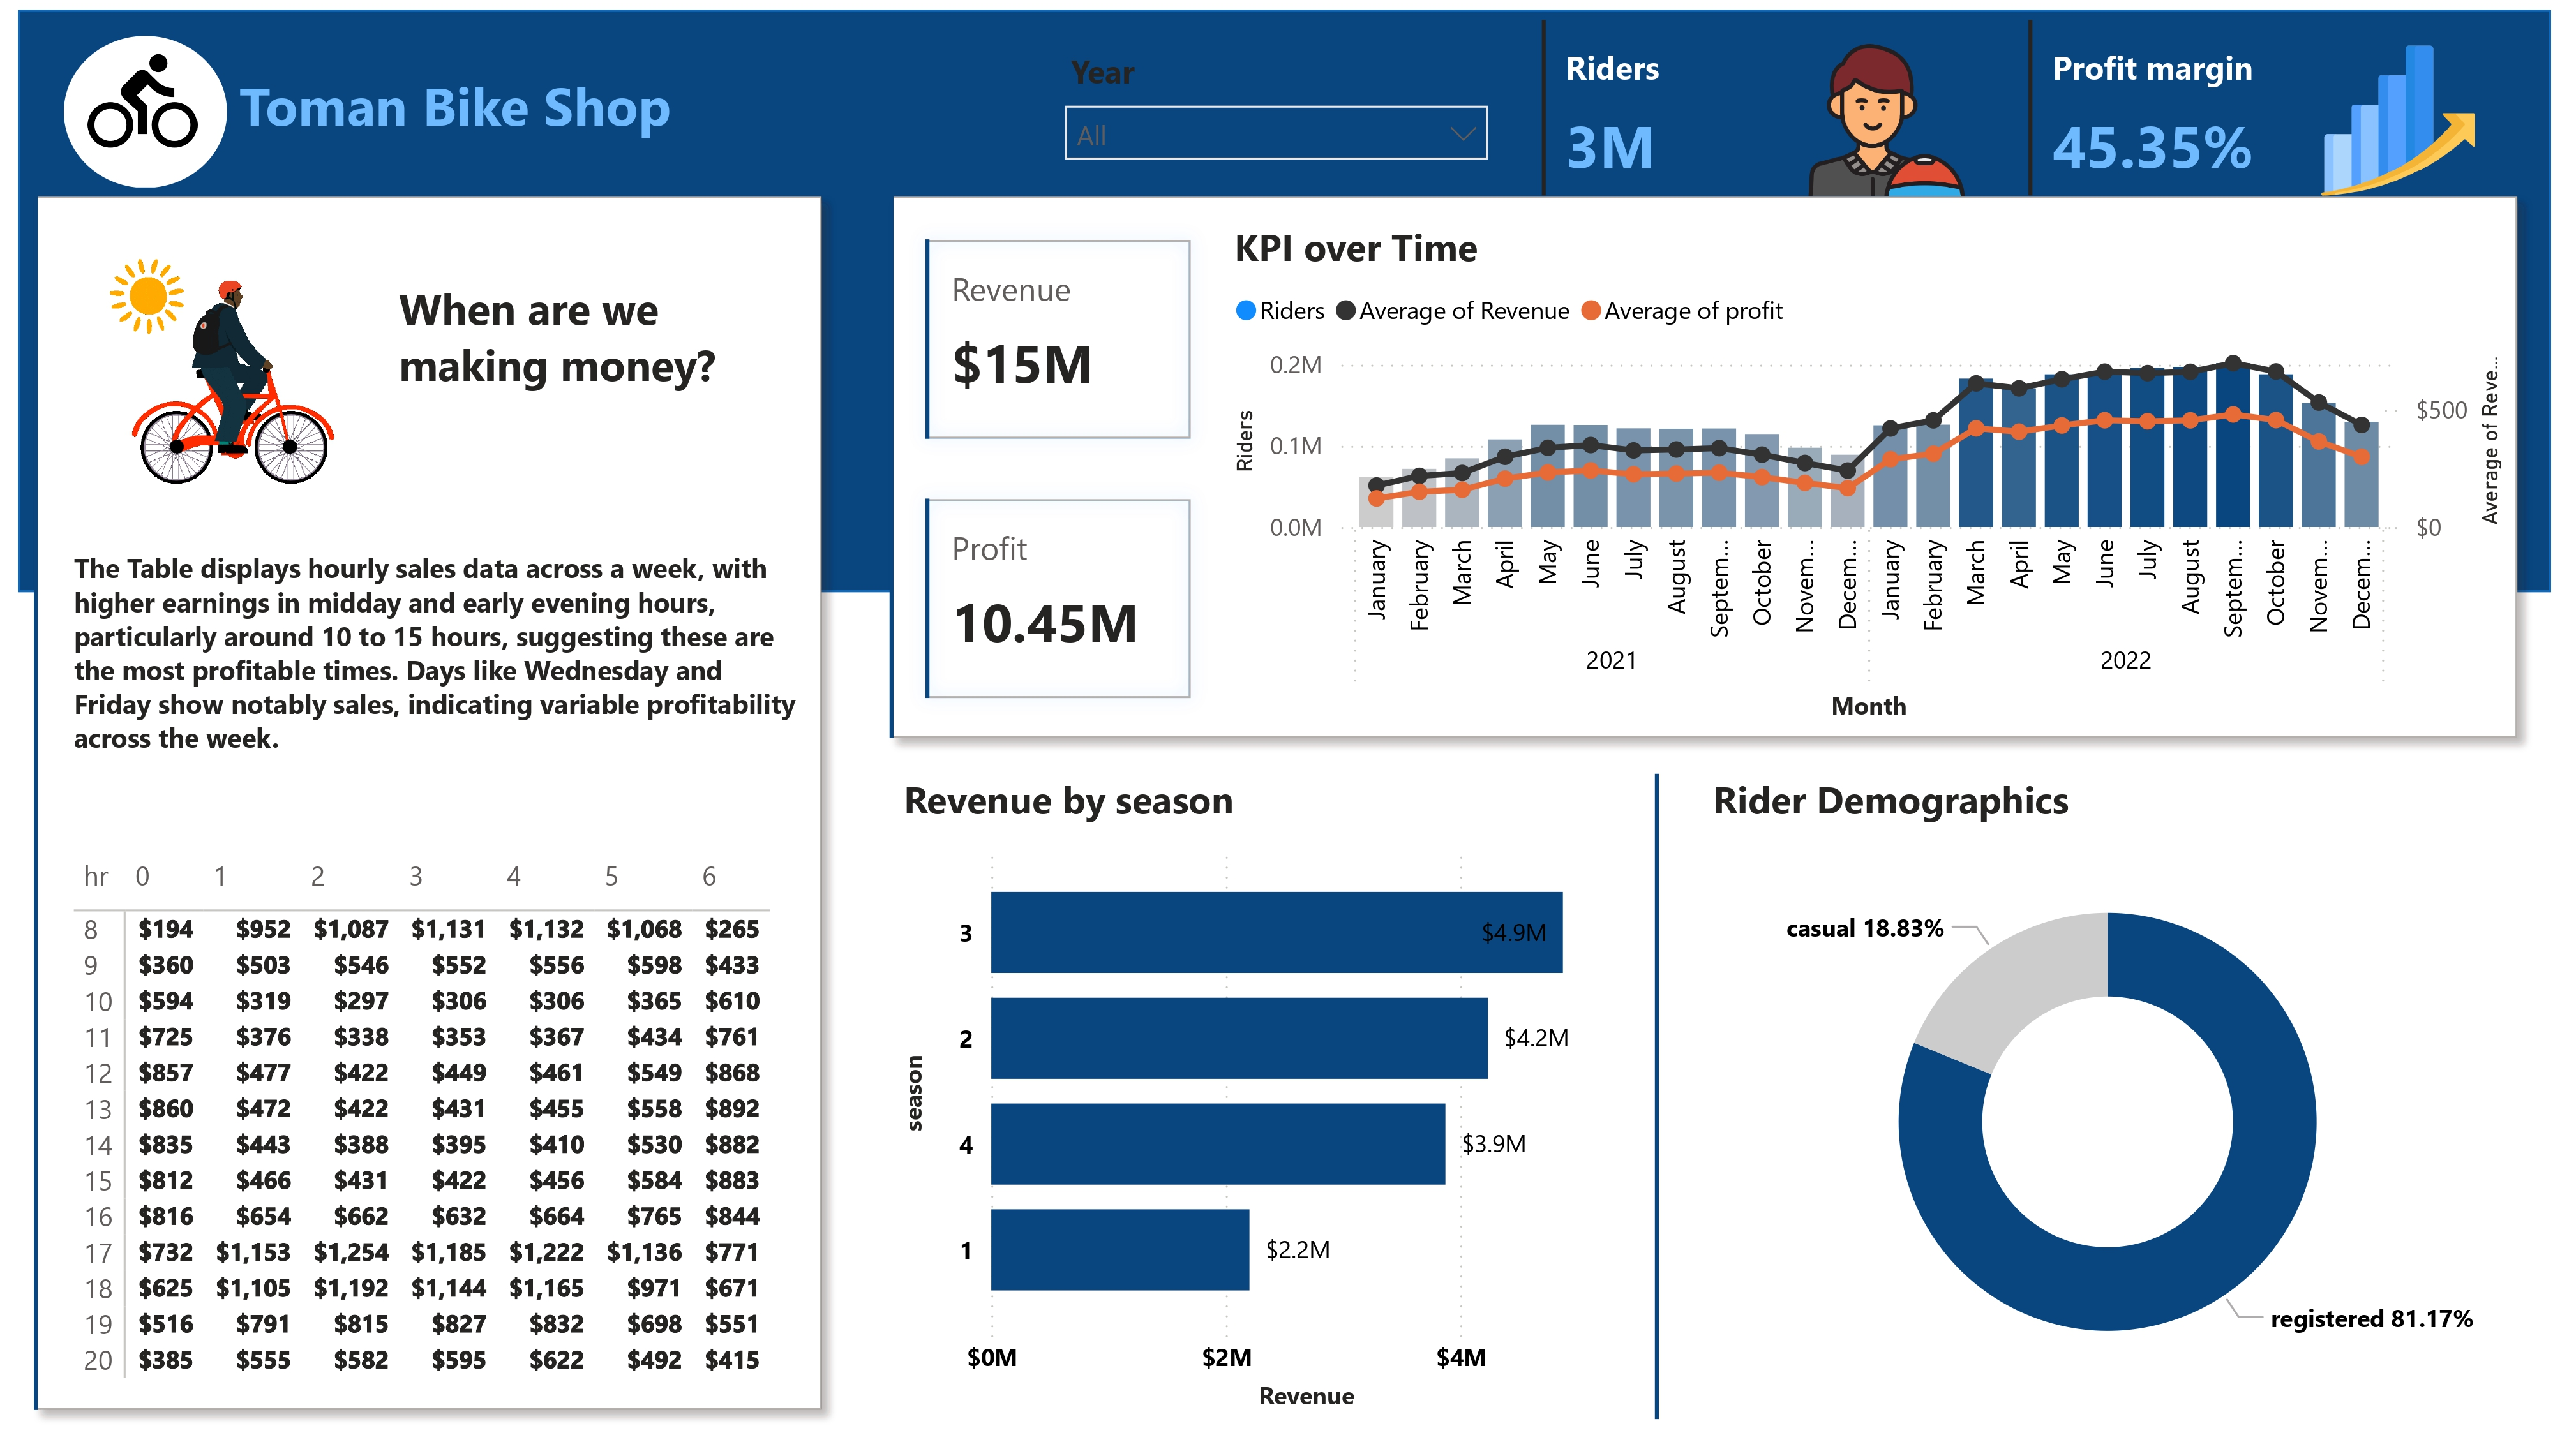

The dashboard page shown, as its layout file describes it:
{"tool":"powerbi","page":{"name":"Page 1","canvas":[1280,720],"ordinal":0},"visuals":[{"type":"shape","box":[9.3,0,1270.1,291.9],"z":0},{"type":"cardVisual","fields":{"Data":["Query1.riders"]},"box":[0,76.2,429.6,643.4],"z":1000},{"type":"cardVisual","fields":{"Data":["Query1.riders"]},"box":[429,75.6,850.4,306.1],"z":2000},{"type":"clusteredBarChart","fields":{"Y":["Query1.Revenue"],"Category":["Query1.season"]},"box":[448.2,383.1,383.1,323.6],"z":3000},{"type":"cardVisual","fields":{"Data":["Query1.riders"]},"box":[32.1,105.8,162.5,139.8],"z":4000},{"type":"pivotTable","fields":{"Values":["Query1.Revenue"],"Columns":["Query1.weekday"],"Rows":["Query1.hr"]},"box":[32.1,419.5,374.2,275.9],"z":5000},{"type":"textbox","box":[194.7,130.4,207.9,196.5],"z":6000},{"type":"textbox","box":[32.1,266.5,374.2,132.3],"z":7000},{"type":"lineClusteredColumnComboChart","title":"KPI over Time","fields":{"Y":["Query1.riders"],"Category":["Query1.dteday.Variation.Date Hierarchy.Year","Query1.dteday.Variation.Date Hierarchy.Month"],"Y2":["Query1.Revenue","Query1.profit"]},"box":[613.7,106,645.3,254.8],"z":8000},{"type":"donutChart","title":"Rider Demographics","fields":{"Category":["Query1.rider_type"],"Y":["Query1.riders"]},"box":[853.5,383.1,405.4,323.6],"z":9000},{"type":"shape","box":[680.6,383.1,299.4,323.6],"z":10000},{"type":"cardVisual","title":"KPI over Time","fields":{"Data":["Query1.Revenue","Query1.profit"]},"box":[448.2,98.6,165.5,262.2],"z":11000},{"type":"cardVisual","fields":{"Data":["Query1.riders","Query1.Profit margin"]},"box":[768,0,490.9,98.6],"z":12000},{"type":"shape","box":[31.6,13,81.8,76.2],"z":12001},{"type":"image","box":[27.9,13,87.4,65.1],"z":12002},{"type":"textbox","box":[115.3,24.2,455.6,57.6],"z":12003},{"type":"slicer","fields":{"Values":["Query1.Year"]},"box":[524.4,14.9,232.4,68.8],"z":12004}]}

Visuals, with their boxes in screenshot pixels (x1, y1, x2, y2), scaled from the page's 1280x720 canvas onto the 2553x1456 screenshot:
shape: pyautogui.locateOnScreen(19, 0, 2552, 590)
cardVisual - Query1.riders: pyautogui.locateOnScreen(0, 154, 857, 1455)
cardVisual - Query1.riders: pyautogui.locateOnScreen(856, 153, 2552, 772)
clusteredBarChart - Query1.Revenue x Query1.season: pyautogui.locateOnScreen(894, 775, 1658, 1429)
cardVisual - Query1.riders: pyautogui.locateOnScreen(64, 214, 388, 496)
pivotTable - Query1.Revenue x Query1.weekday: pyautogui.locateOnScreen(64, 849, 811, 1406)
textbox: pyautogui.locateOnScreen(388, 264, 803, 661)
textbox: pyautogui.locateOnScreen(64, 539, 811, 806)
"KPI over Time" lineClusteredColumnComboChart: pyautogui.locateOnScreen(1224, 214, 2511, 730)
"Rider Demographics" donutChart: pyautogui.locateOnScreen(1702, 775, 2511, 1429)
shape: pyautogui.locateOnScreen(1358, 775, 1954, 1429)
"KPI over Time" cardVisual: pyautogui.locateOnScreen(894, 200, 1224, 730)
cardVisual - Query1.riders x Query1.Profit margin: pyautogui.locateOnScreen(1532, 0, 2511, 200)
shape: pyautogui.locateOnScreen(63, 26, 226, 181)
image: pyautogui.locateOnScreen(56, 26, 230, 158)
textbox: pyautogui.locateOnScreen(230, 49, 1139, 165)
slicer - Query1.Year: pyautogui.locateOnScreen(1046, 30, 1509, 169)
